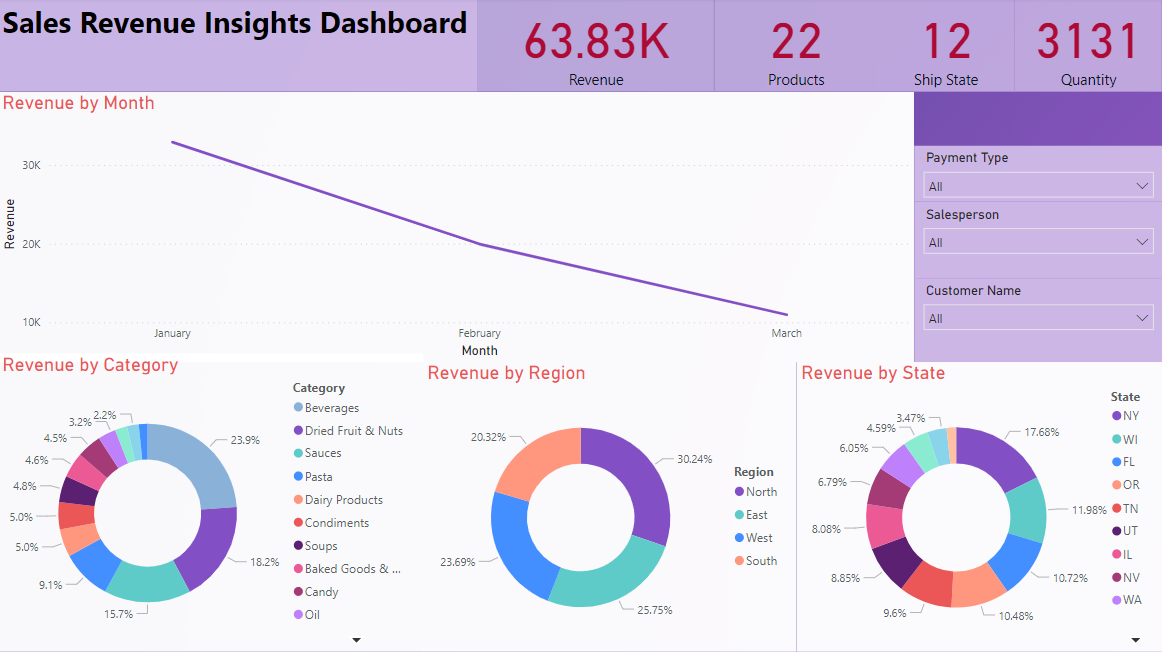

Layout of this report page (visuals, bound fields, positions):
{"tool":"powerbi","page":{"name":"Page 1","canvas":[1280,720],"ordinal":0},"visuals":[{"type":"lineChart","fields":{"Y":["Sum(Sheet1.Revenue)"],"Category":["Sheet1.Order Date.Variation.Date Hierarchy.Month"]},"box":[0,104.4,1006.7,296.7],"z":0},{"type":"donutChart","fields":{"Y":["Sum(Sheet1.Revenue)"],"Category":["Sheet1.State"]},"box":[877.6,401,402.4,318.6],"z":1},{"type":"donutChart","fields":{"Y":["Sum(Sheet1.Revenue)"],"Category":["Sheet1.Region"]},"box":[467,401,410.6,318.6],"z":2},{"type":"card","fields":{"Values":["Sum(Sheet1.Quantity)"]},"box":[1116.6,0,163.4,104.4],"z":5},{"type":"card","fields":{"Values":["Count(Sheet1.Ship State)"]},"box":[966.9,0,149.7,104.4],"z":6},{"type":"card","fields":{"Values":["Count(Sheet1.Product Name)"]},"box":[787,0,179.9,104.4],"z":7},{"type":"textbox","box":[0,0,527.4,104.4],"z":8},{"type":"donutChart","fields":{"Y":["Sum(Sheet1.Revenue)"],"Category":["Sheet1.Category"]},"box":[0,391.4,467,328.2],"z":9},{"type":"slicer","fields":{"Values":["Sheet1.Payment Type"]},"box":[1006.7,163.4,273.3,61.8],"z":10},{"type":"slicer","fields":{"Values":["Sheet1.Salesperson"]},"box":[1006.7,225.2,273.3,83.8],"z":11},{"type":"slicer","fields":{"Values":["Sheet1.Customer Name"]},"box":[1006.7,309,273.3,92],"z":12},{"type":"card","fields":{"Values":["Sum(Sheet1.Revenue)"]},"box":[527.4,0,259.6,104.4],"z":13}]}

Visuals, with their boxes in screenshot pixels (x1, y1, x2, y2), scaled from the page's 1280x720 canvas onto the 1162x652 screenshot:
lineChart - Sum(Sheet1.Revenue) x Sheet1.Order Date.Variation.Date Hierarchy.Month: box=[0, 95, 914, 363]
donutChart - Sum(Sheet1.Revenue) x Sheet1.State: box=[797, 363, 1161, 651]
donutChart - Sum(Sheet1.Revenue) x Sheet1.Region: box=[424, 363, 797, 651]
card - Sum(Sheet1.Quantity): box=[1014, 0, 1161, 95]
card - Count(Sheet1.Ship State): box=[878, 0, 1014, 95]
card - Count(Sheet1.Product Name): box=[714, 0, 878, 95]
textbox: box=[0, 0, 479, 95]
donutChart - Sum(Sheet1.Revenue) x Sheet1.Category: box=[0, 354, 424, 651]
slicer - Sheet1.Payment Type: box=[914, 148, 1161, 204]
slicer - Sheet1.Salesperson: box=[914, 204, 1161, 280]
slicer - Sheet1.Customer Name: box=[914, 280, 1161, 363]
card - Sum(Sheet1.Revenue): box=[479, 0, 714, 95]
